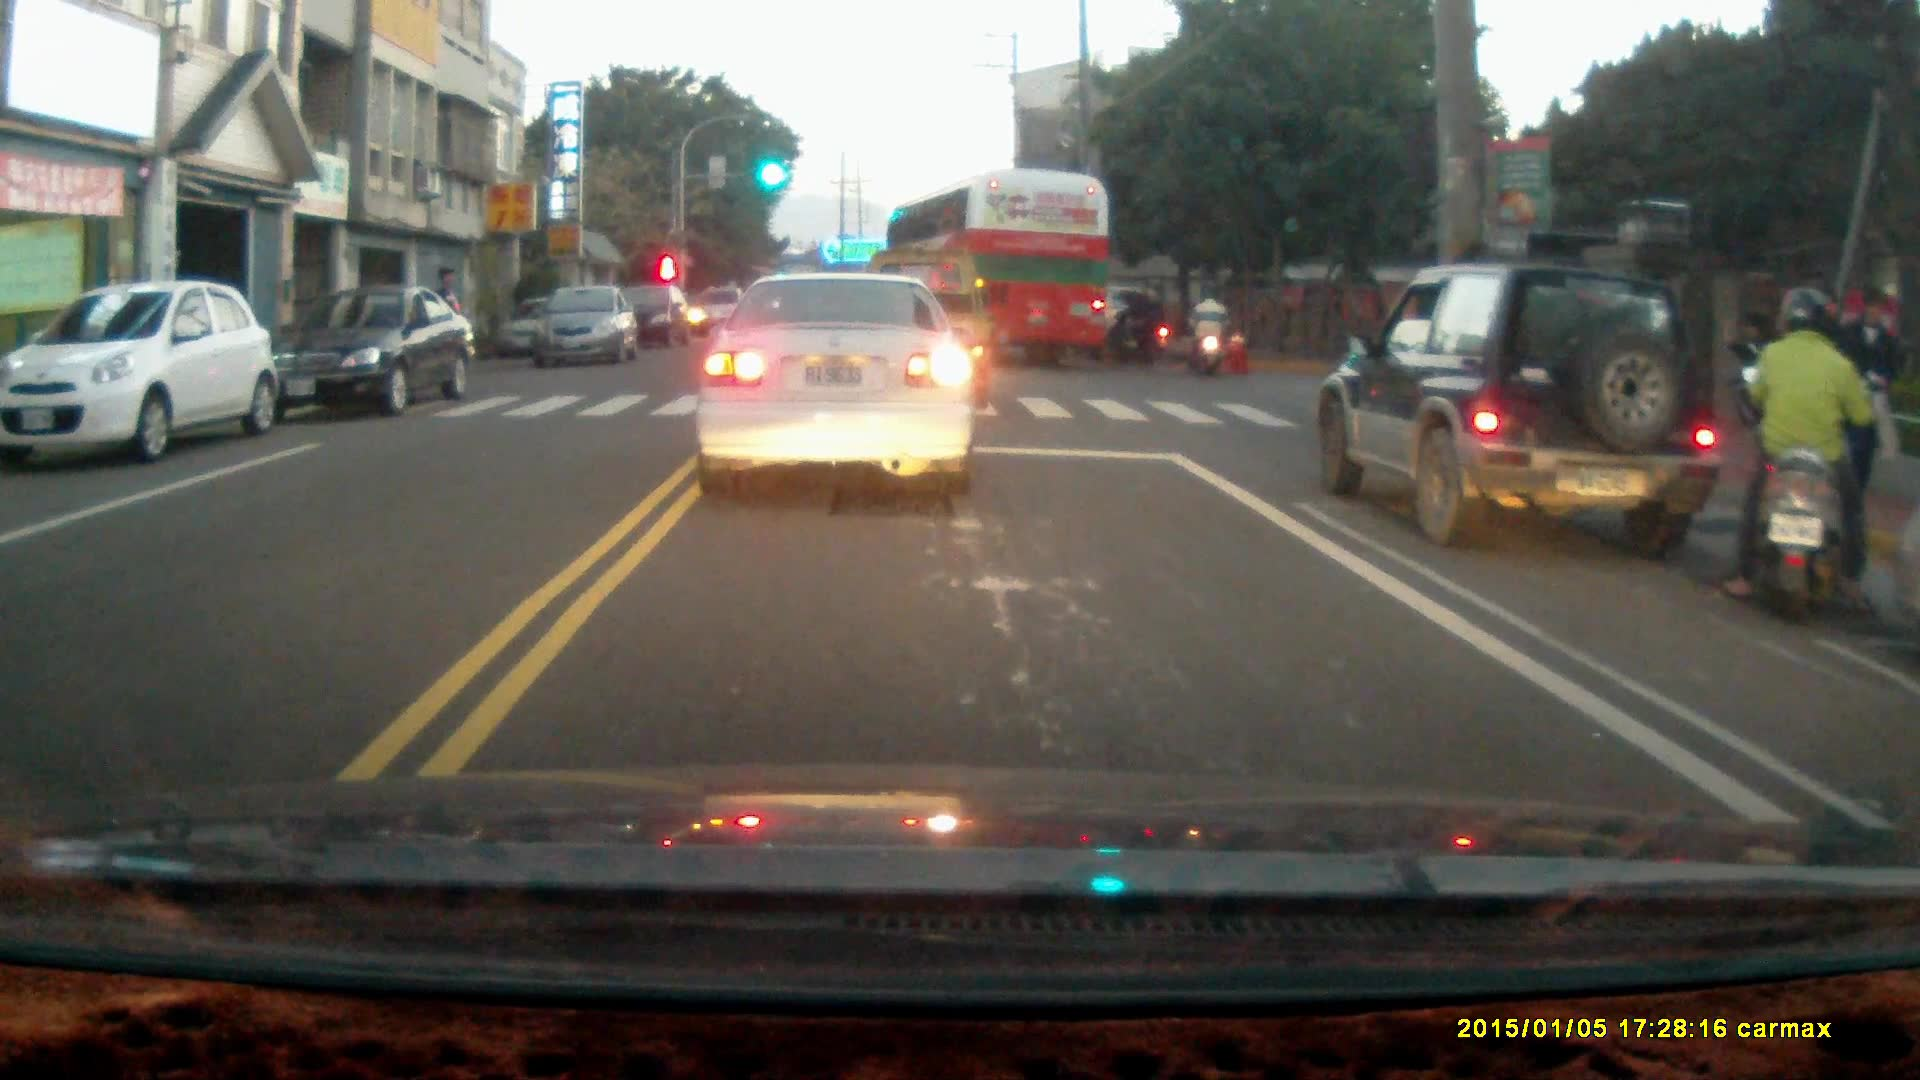pedestrian: (1835, 283, 1898, 519), (1724, 308, 1783, 427), (430, 266, 464, 378)
rider: (1718, 284, 1876, 621), (1100, 290, 1172, 369), (1187, 285, 1234, 376)
vehicle: (1318, 267, 1728, 554), (691, 269, 981, 503), (2, 281, 287, 465), (874, 171, 1115, 375), (261, 287, 477, 420), (525, 287, 639, 371), (600, 286, 690, 351)
